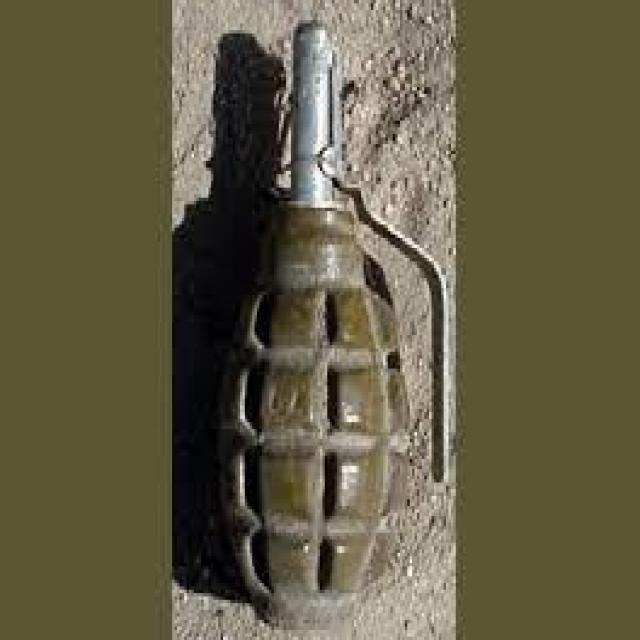grenade: (217, 10, 430, 623)
